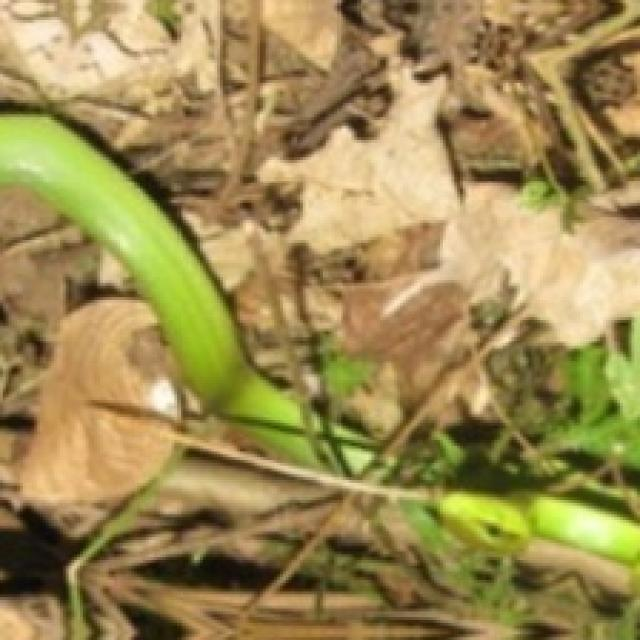red-tailed green ratsnake: (0, 115, 316, 464), (438, 491, 640, 563)
